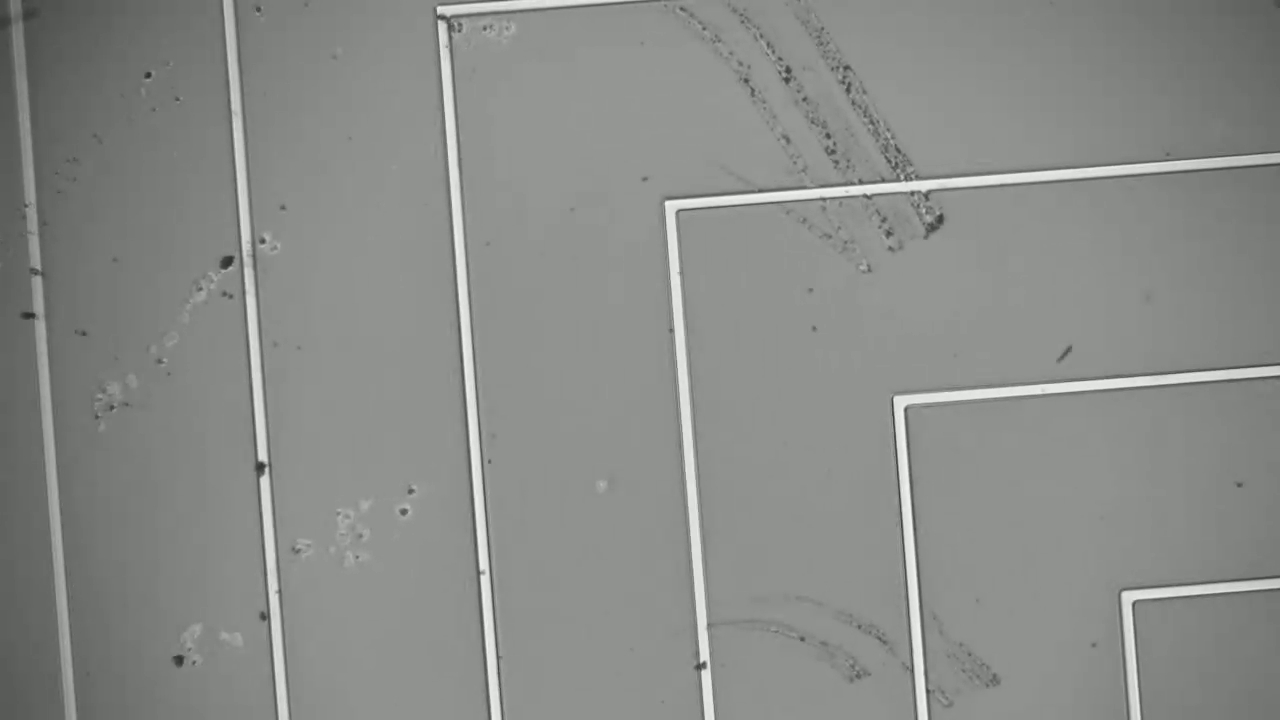scratch: (663, 1, 979, 253)
stains_enbedded: (244, 446, 282, 481), (684, 650, 721, 683)
